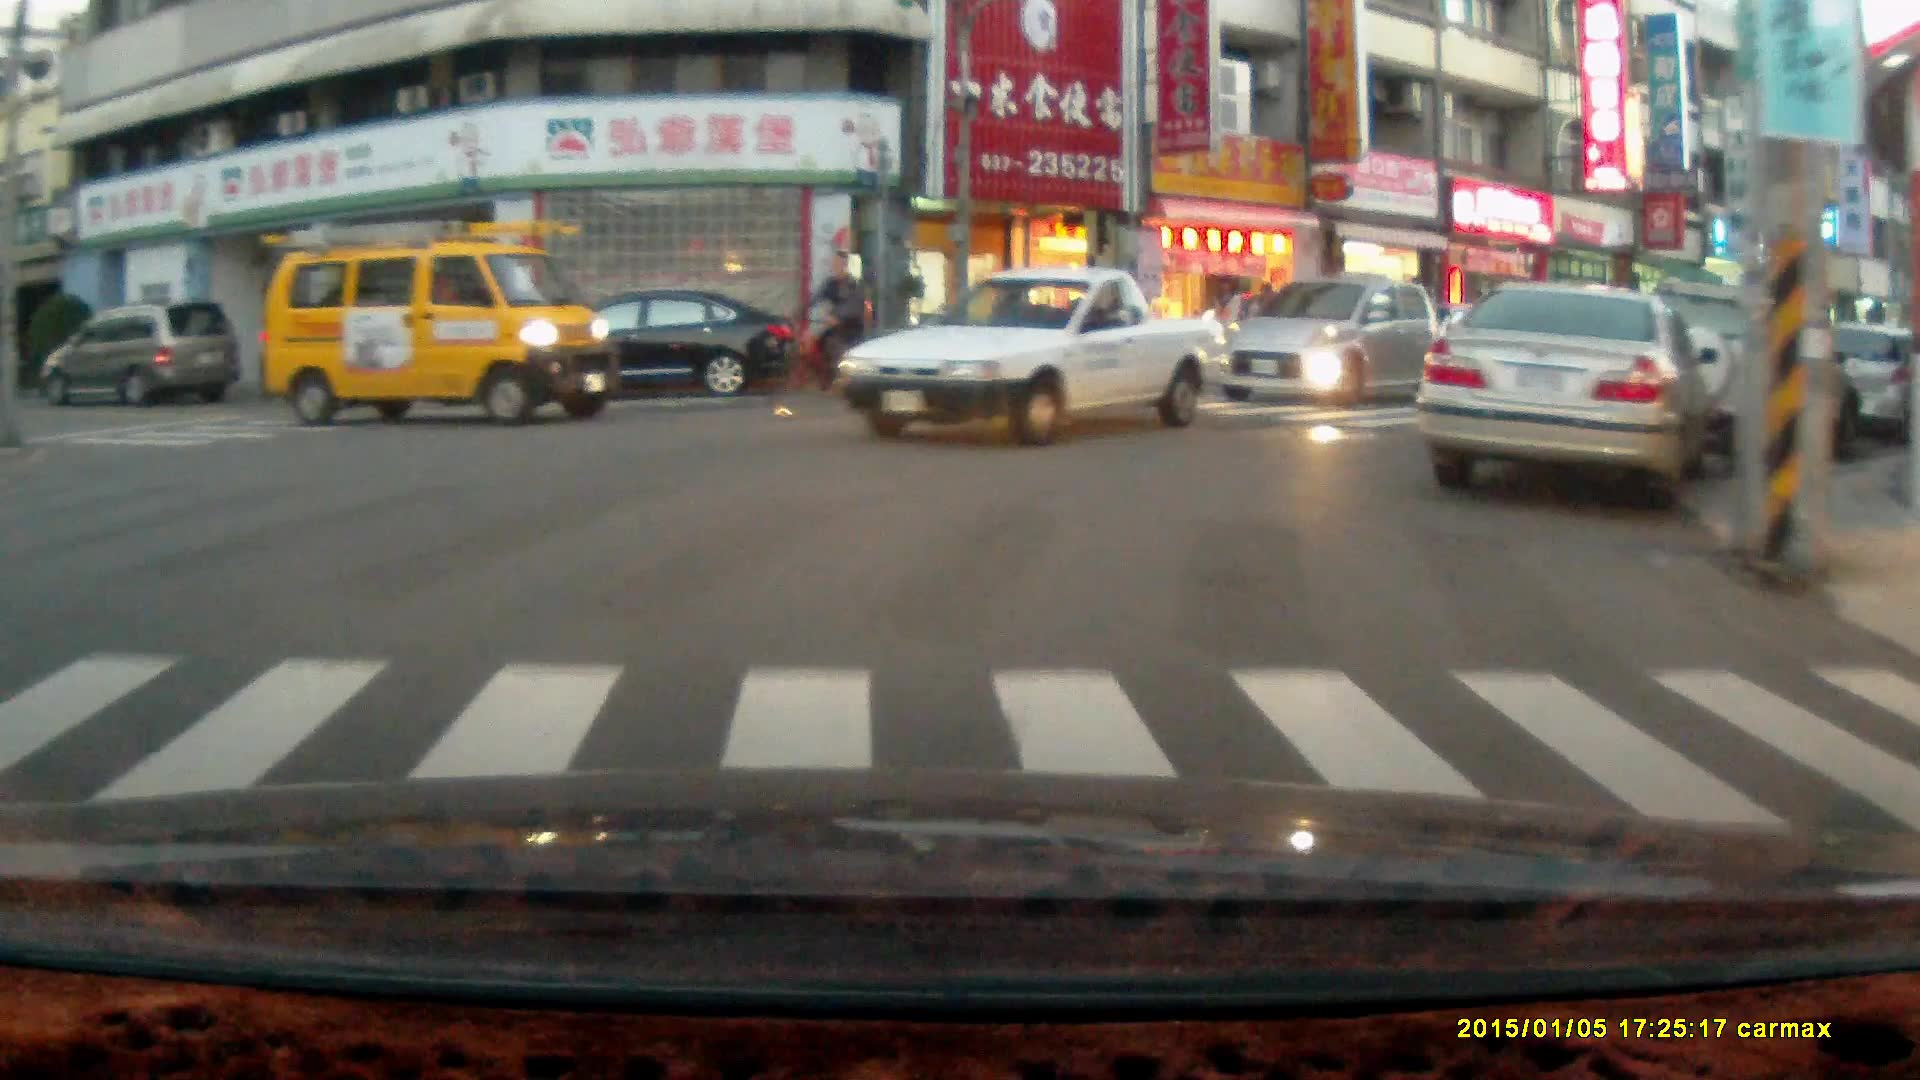pedestrian: (1211, 274, 1245, 369)
rider: (764, 249, 884, 417)
vehicle: (254, 222, 620, 430), (836, 267, 1234, 452), (1421, 280, 1714, 517), (1599, 291, 1869, 476), (510, 289, 800, 409), (1217, 275, 1444, 411), (41, 300, 239, 412)
